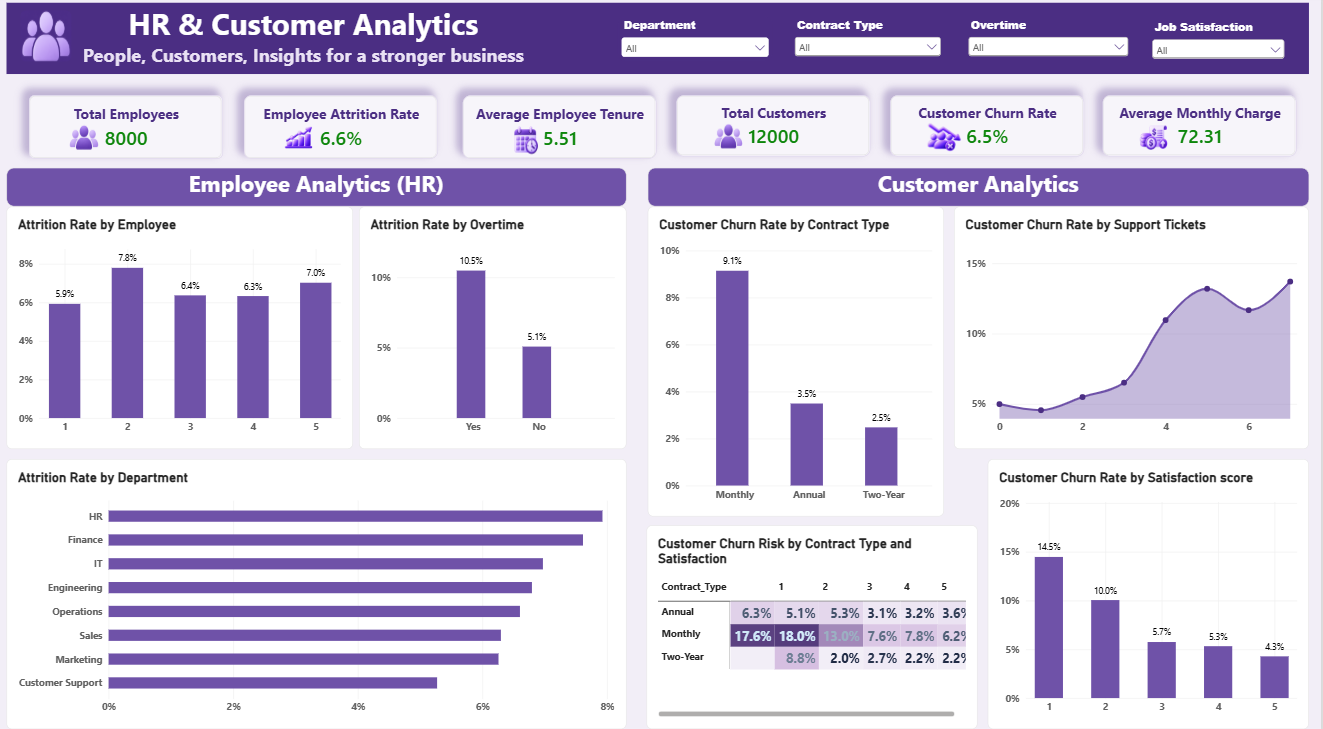

The dashboard page shown, as its layout file describes it:
{"tool":"powerbi","page":{"name":"Page 1","canvas":[1920,1080],"ordinal":0},"visuals":[{"type":"cardVisual","fields":{"Data":["customer_support.Total Employees"]},"box":[50.7,146.6,280.5,92.3],"z":1},{"type":"cardVisual","fields":{"Data":["customer_support.Attrition Values Check"]},"box":[361.9,146.6,280.5,92.3],"z":2},{"type":"cardVisual","fields":{"Data":["customer_support.Average Employee Tenure"]},"box":[678.6,146.6,280.5,92.3],"z":3},{"type":"cardVisual","fields":{"Data":["customer_support.Total Customers"]},"box":[988.1,146.6,280.5,88.7],"z":4},{"type":"cardVisual","fields":{"Data":["customer_support.Customer Churn Rate Display"]},"box":[1297.5,146.6,280.5,88.7],"z":5},{"type":"cardVisual","fields":{"Data":["customer_support.Average Monthly Charge"]},"box":[1605.2,146.6,280.5,88.7],"z":6},{"type":"clusteredBarChart","title":"Attrition Rate by Department","fields":{"Category":["employees.Department"],"Y":["customer_support.Department Attrition Rate"]},"box":[18.1,673.2,897.6,390.9],"z":7},{"type":"clusteredColumnChart","title":"Attrition Rate by Overtime","fields":{"Category":["employees.Overtime"],"Y":["customer_support.Employee Attrition Rate Numeric"]},"box":[528.4,307.6,387.3,351.1],"z":8},{"type":"clusteredColumnChart","title":"Attrition Rate by Employee","fields":{"Category":["employees.Job_Satisfaction"],"Y":["customer_support.Employee Attrition Rate Numeric"]},"box":[18.1,307.6,501.3,351.1],"z":9},{"type":"clusteredColumnChart","title":"Customer Churn Rate by Contract Type","fields":{"Category":["customers.Contract_Type"],"Y":["employee_performance.Customer Churn Rate Numeric"]},"box":[946.5,307.6,428.9,448.8],"z":10},{"type":"clusteredColumnChart","title":"Customer Churn Rate by Satisfaction score","fields":{"Category":["customers.Satisfaction_Score"],"Y":["employee_performance.Customer Churn Rate Numeric"]},"box":[1438.7,673.2,465.1,390.9],"z":11},{"type":"lineChart","title":"Customer Churn Rate by Support Tickets","fields":{"Category":["customers.Support_Tickets"],"Y":["employee_performance.Customer Churn Rate Numeric"]},"box":[1389.8,307.6,513.9,351.1],"z":12},{"type":"pivotTable","title":"Customer Churn Risk by Contract Type and Satisfaction","fields":{"Columns":["customers.Satisfaction_Score"],"Rows":["customers.Contract_Type"],"Values":["employee_performance.Customer Churn Rate Numeric"]},"box":[944.6,769.1,479.6,295],"z":13},{"type":"textbox","box":[18.1,251.5,897.6,56.1],"z":14},{"type":"textbox","box":[946.5,251.5,957.3,56.1],"z":16},{"type":"textbox","box":[18.1,12.7,1885.7,103.2],"z":17},{"type":"slicer","fields":{"Values":["employees.Department"]},"box":[903,32.6,224.4,65.1],"z":18},{"type":"slicer","fields":{"Values":["customers.Contract_Type"]},"box":[1154.6,32.6,220.8,65.1],"z":19},{"type":"slicer","fields":{"Values":["employees.Overtime"]},"box":[1406.1,32.6,240.7,65.1],"z":20},{"type":"slicer","fields":{"Values":["employees.Job_Satisfaction"]},"box":[1672.1,36.2,200.9,65.1],"z":21},{"type":"image","box":[38,23.5,74.2,74.2],"z":22},{"type":"image","box":[95.9,177.3,68.8,61.5],"z":23},{"type":"image","box":[1029.7,175.5,67,61.5],"z":24},{"type":"image","box":[742,188.2,54.3,47.1],"z":27},{"type":"image","box":[412.6,182.8,54.3,50.7],"z":29},{"type":"image","box":[1646.8,182.8,61.5,48.9],"z":30},{"type":"image","box":[1339.1,171.9,67,70.6],"z":31}]}

Visuals, with their boxes in screenshot pixels (x1, y1, x2, y2), scaled from the page's 1920x1080 canvas onto the 1323x729 screenshot:
cardVisual - customer_support.Total Employees: 35/99/228/161
cardVisual - customer_support.Attrition Values Check: 249/99/443/161
cardVisual - customer_support.Average Employee Tenure: 468/99/661/161
cardVisual - customer_support.Total Customers: 681/99/874/159
cardVisual - customer_support.Customer Churn Rate Display: 894/99/1087/159
cardVisual - customer_support.Average Monthly Charge: 1106/99/1299/159
"Attrition Rate by Department" clusteredBarChart: 12/454/631/718
"Attrition Rate by Overtime" clusteredColumnChart: 364/208/631/445
"Attrition Rate by Employee" clusteredColumnChart: 12/208/358/445
"Customer Churn Rate by Contract Type" clusteredColumnChart: 652/208/948/511
"Customer Churn Rate by Satisfaction score" clusteredColumnChart: 991/454/1312/718
"Customer Churn Rate by Support Tickets" lineChart: 958/208/1312/445
"Customer Churn Risk by Contract Type and Satisfaction" pivotTable: 651/519/981/718
textbox: 12/170/631/208
textbox: 652/170/1312/208
textbox: 12/9/1312/78
slicer - employees.Department: 622/22/777/66
slicer - customers.Contract_Type: 796/22/948/66
slicer - employees.Overtime: 969/22/1135/66
slicer - employees.Job_Satisfaction: 1152/24/1291/68
image: 26/16/77/66
image: 66/120/113/161
image: 710/118/756/160
image: 511/127/549/159
image: 284/123/322/158
image: 1135/123/1177/156
image: 923/116/969/164
